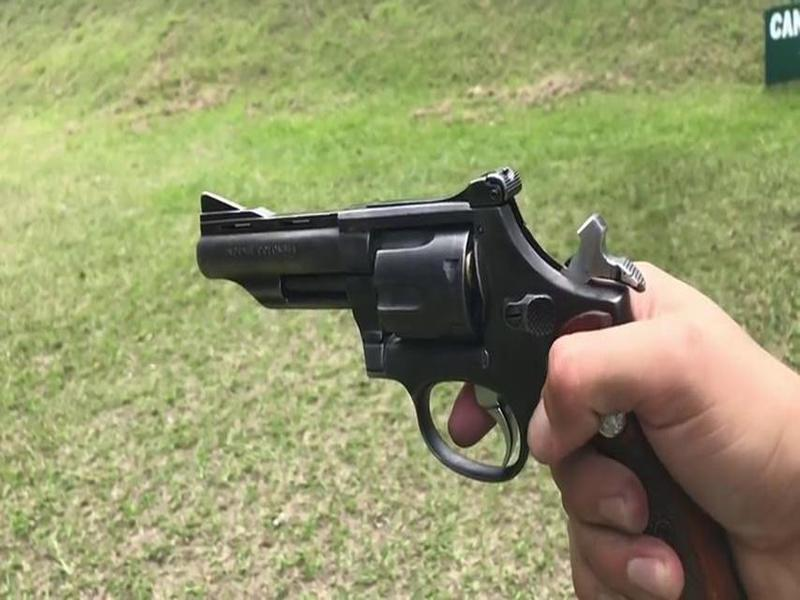Revolver: (194, 148, 681, 600)
